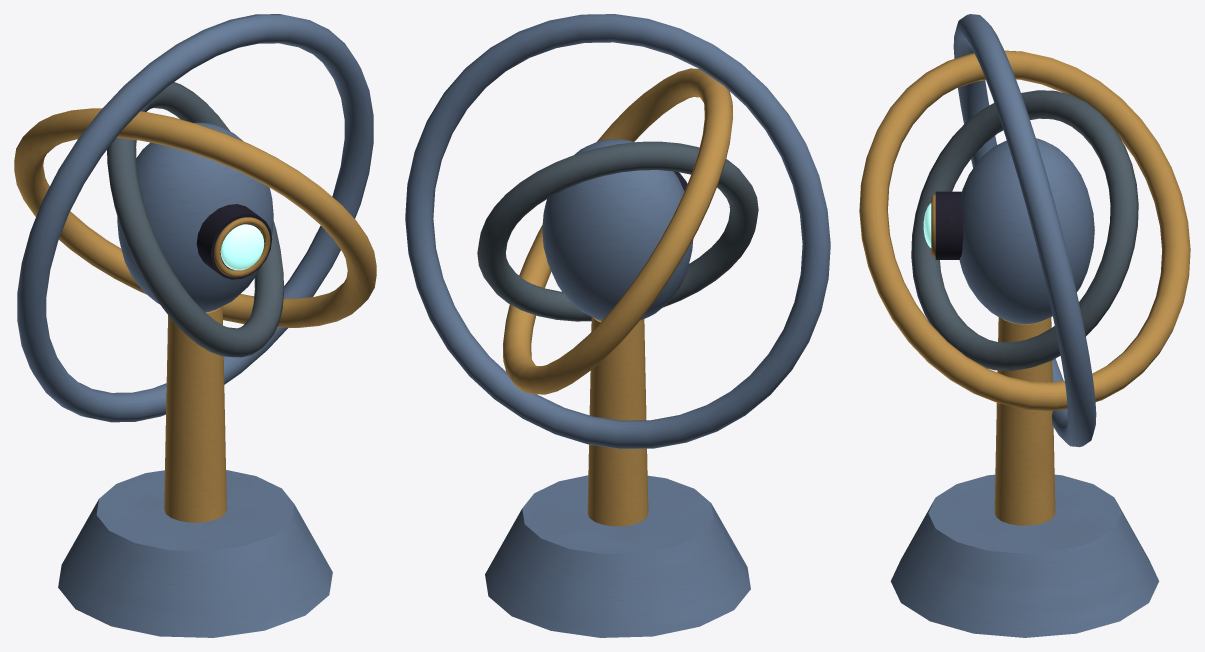
Rendered from orlo.glb.
The picture shows the model from 3 angles, left to right: view 1: azimuth 30°, elevation 25°; view 2: azimuth 150°, elevation 25°; view 3: azimuth 270°, elevation 25°; orthographic projection. The views are drawn at different scales.
Parts seen in each view (by area): view 1: Gimbal (×3), Gyro base, Pendulum core, Axle post, Barrel, Optical glass, Lens bezel; view 2: Gimbal (×3), Gyro base, Pendulum core, Axle post; view 3: Gimbal (×3), Gyro base, Pendulum core, Axle post, Barrel.
Part boxes in pixels (<box>): Gimbal (×3): <box>14,14,376,422</box>; Gyro base: <box>58,470,332,637</box>; Pendulum core: <box>117,122,273,312</box>; Axle post: <box>164,306,226,522</box>; Barrel: <box>196,204,272,279</box>; Optical glass: <box>220,224,264,270</box>; Lens bezel: <box>214,217,270,277</box>; Gimbal (×3): <box>405,14,830,448</box>; Gyro base: <box>485,475,750,637</box>; Pendulum core: <box>542,139,693,321</box>; Axle post: <box>587,317,648,526</box>; Gimbal (×3): <box>859,14,1190,447</box>; Gyro base: <box>890,474,1159,637</box>; Pendulum core: <box>959,138,1094,323</box>; Axle post: <box>994,317,1055,525</box>; Barrel: <box>935,191,963,259</box>.
Size of the model in its own units: 0.8166 by 1.13 by 0.6166.
6 materials, 5 textured.
